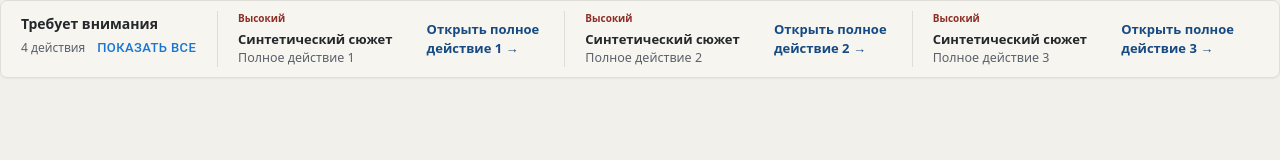
Test case: AttentionQueue › does not replace the expanded list with a preview-sized polling response
The image size is (1280, 160).
Click the button with aria-label "Показать все действия": (147, 48) 93,35 -> 200,62
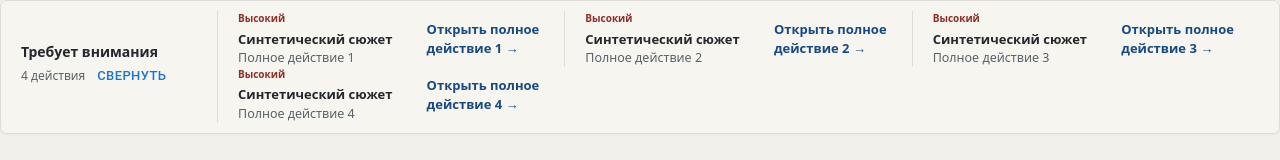
Now the number of links is 4, box 427,20 -> 544,58; 774,20 -> 892,58; 1121,20 -> 1239,58; 427,76 -> 544,114
